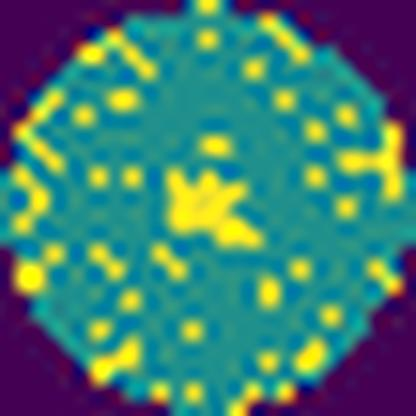Center: (166, 169, 262, 254)
